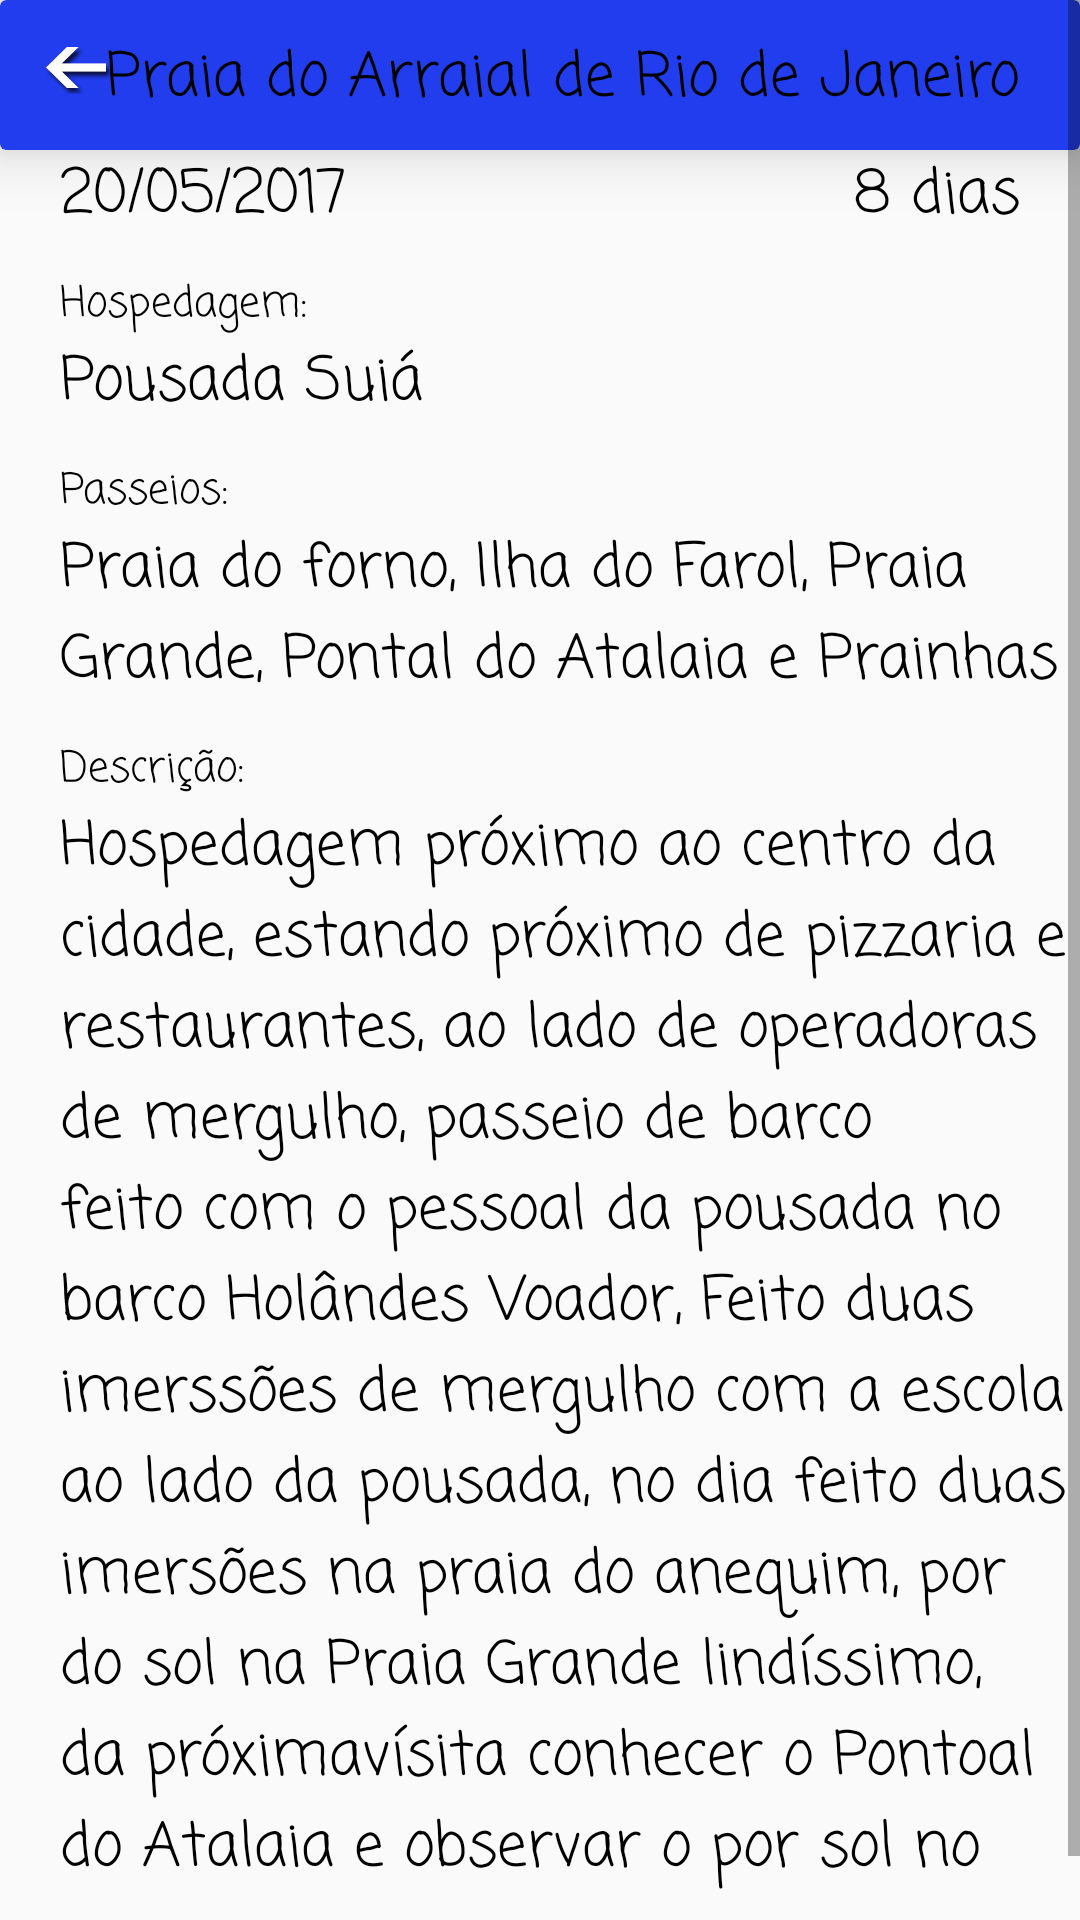

Icons on this 1080px x 1920px Android screen, each with the point to tap as (x=x, y=y):
imgback: (x=79, y=70)
